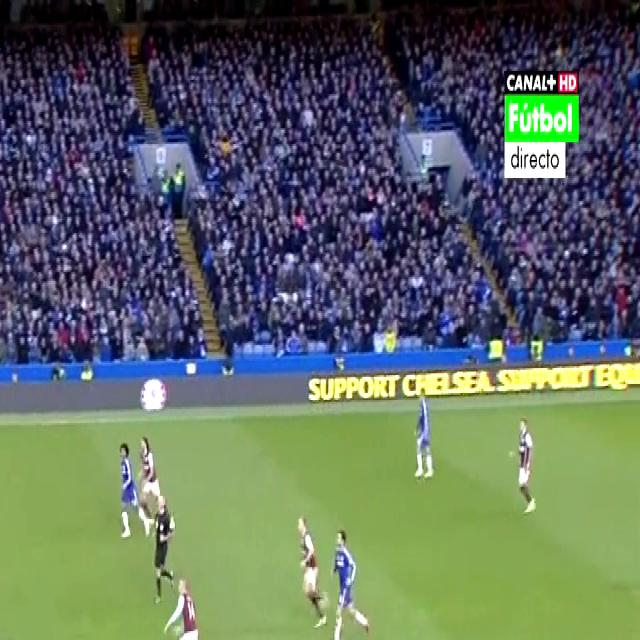referee: (146, 488, 177, 611)
soccer-player: (326, 521, 376, 640), (296, 510, 332, 631), (136, 423, 166, 538), (507, 408, 538, 519), (114, 429, 143, 547), (170, 569, 214, 640), (414, 382, 443, 489)
